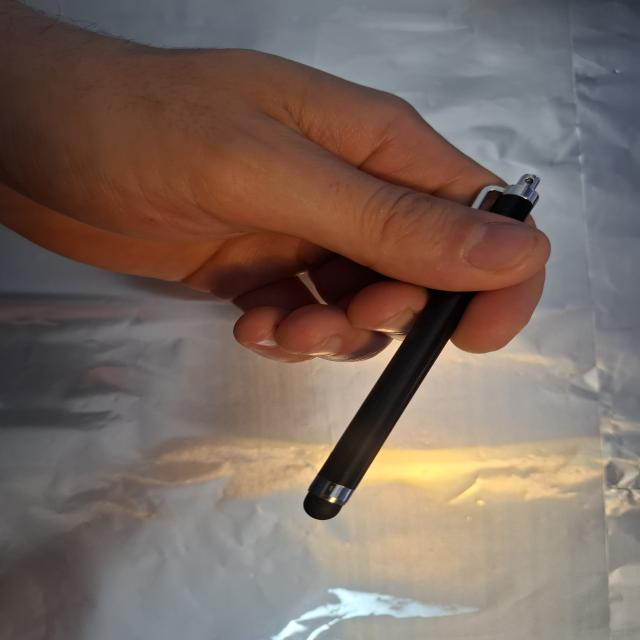glove_off: (14, 11, 555, 365)
